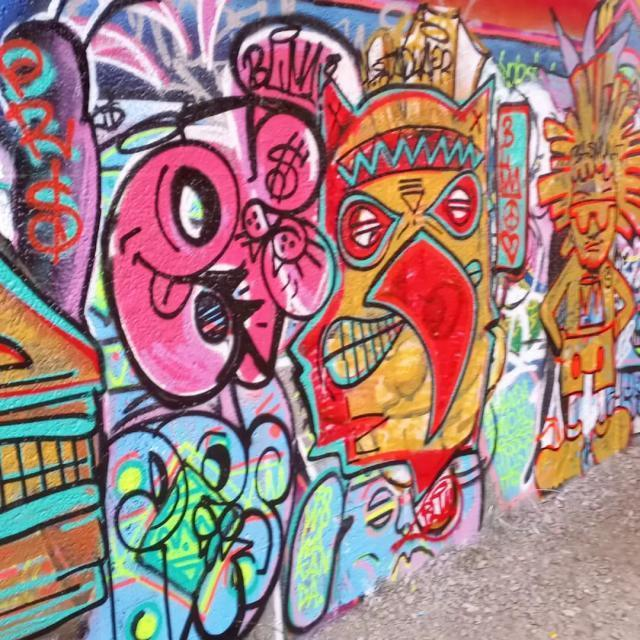-: (108, 46, 351, 392), (304, 76, 506, 472), (540, 67, 639, 488), (110, 413, 290, 640), (246, 22, 347, 102), (290, 488, 335, 612)
